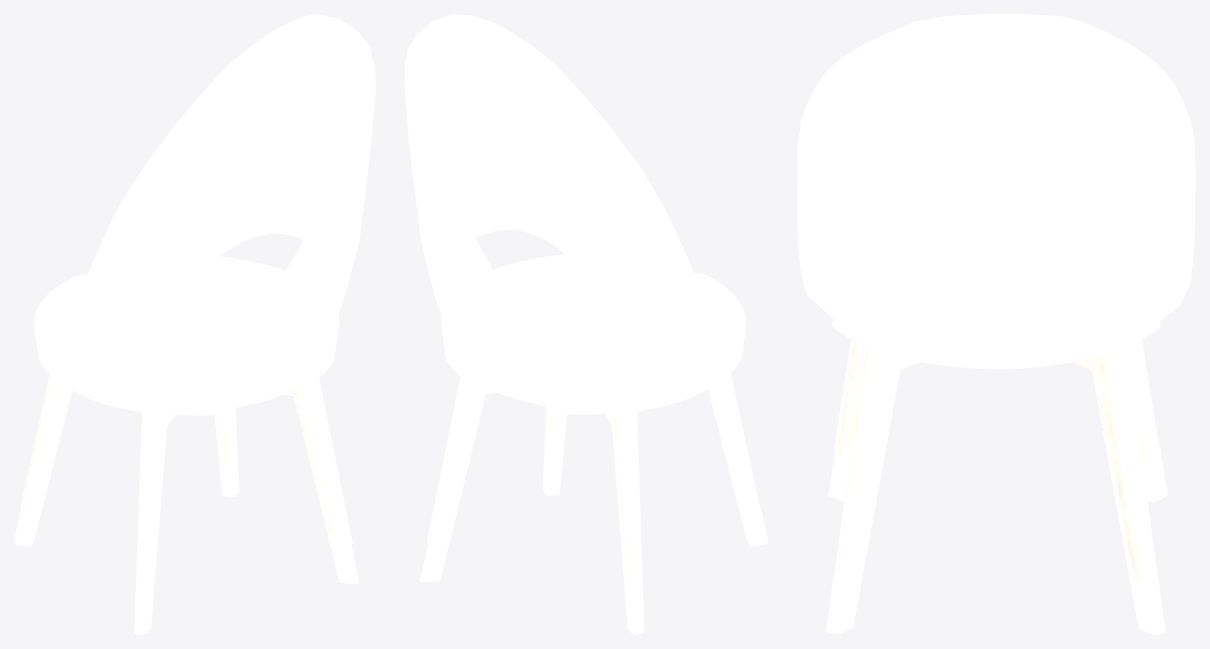
File: SM_ChairLeather.fbx
3 renders of one model, left to right at view 1: azimuth 30°, elevation 25°; view 2: azimuth 150°, elevation 25°; view 3: azimuth 270°, elevation 25°, orthographic. The views are drawn at different scales.
Parts seen in each view (by area): view 1: SM_ChairLeather_LOD0; view 2: SM_ChairLeather_LOD0; view 3: SM_ChairLeather_LOD0.
Boxes of the visible parts, x1=… form: SM_ChairLeather_LOD0: x1=14, y1=14, x2=375, y2=634; SM_ChairLeather_LOD0: x1=404, y1=14, x2=768, y2=634; SM_ChairLeather_LOD0: x1=797, y1=14, x2=1195, y2=634.
Bounding box in the file's own units: 67.87 × 59.48 × 107.
